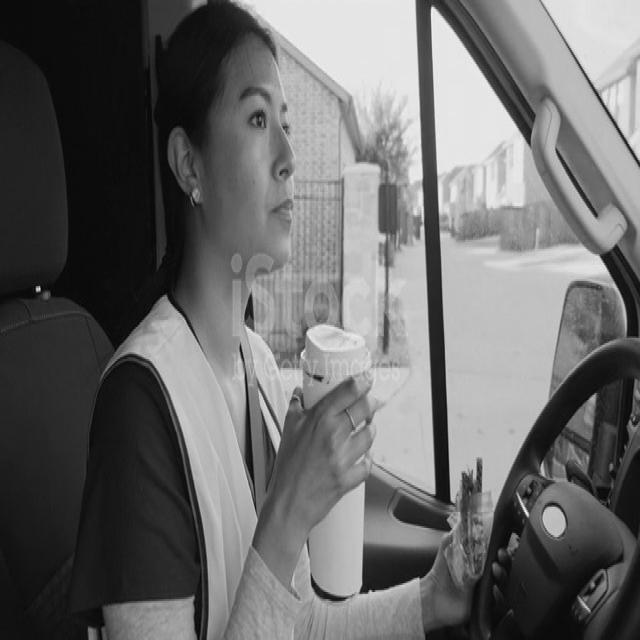Drinking: (157, 10, 379, 638)
